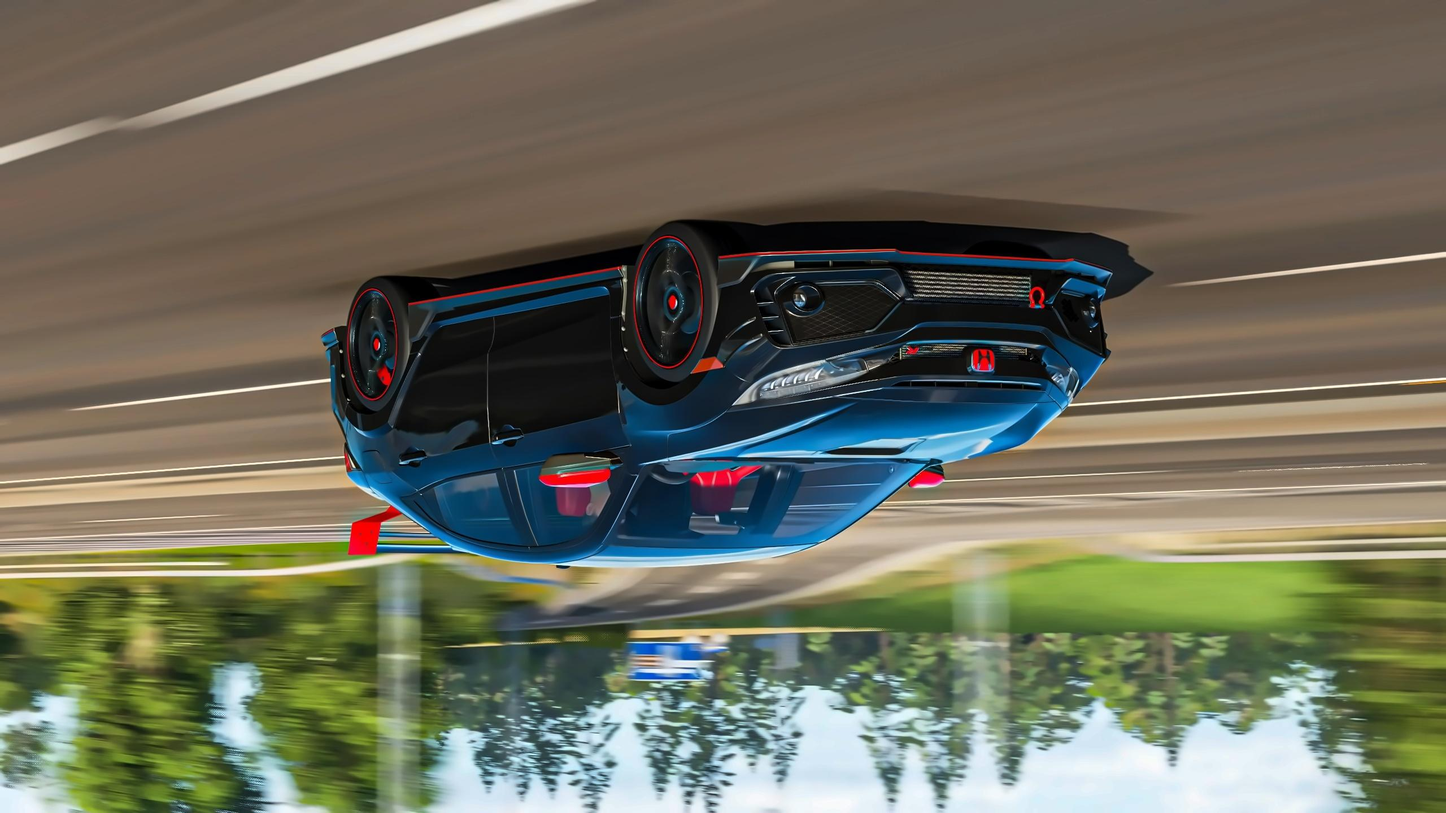Car hood: (639, 386, 1071, 461)
Fender - -F-L-: (607, 271, 746, 464)
Fender - -R-L-: (337, 295, 436, 495)
Front bumper: (705, 232, 1122, 387)
Headlight - -L-: (723, 346, 901, 410)
Headlight - -R-: (1051, 359, 1081, 412)
Passenger-s door - -F-L-: (471, 240, 633, 577)
Passenger-s door - -R-L-: (376, 237, 542, 567)
Side bumper - -L-: (390, 244, 647, 356)
Side mirror - -L-: (536, 445, 620, 491)
Side mirror - -R-: (902, 462, 948, 494)
